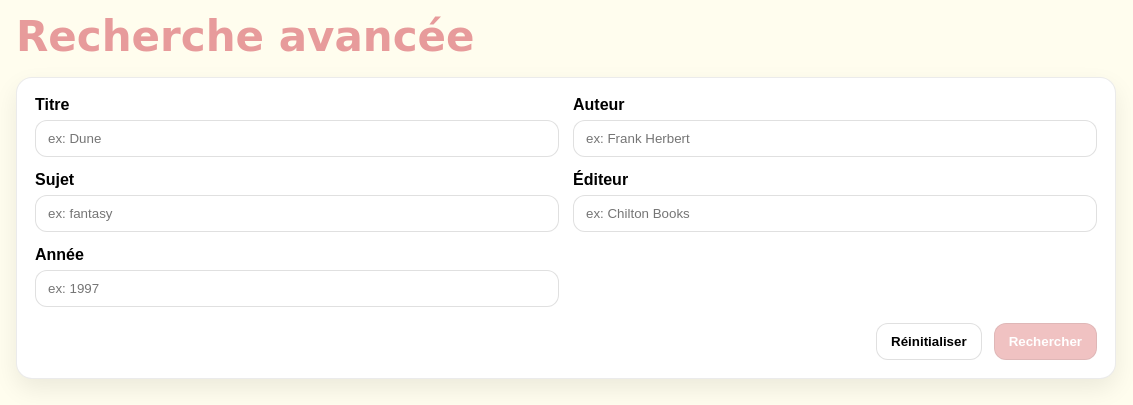
Scenario: Page AdvancedSearch › le bouton se reactive dès qu'on tape quelque chose
This screenshot has width=1133, height=405.
In the field with placeholder "ex: Dune": (297, 139) [35, 120, 559, 157], type "Dune"
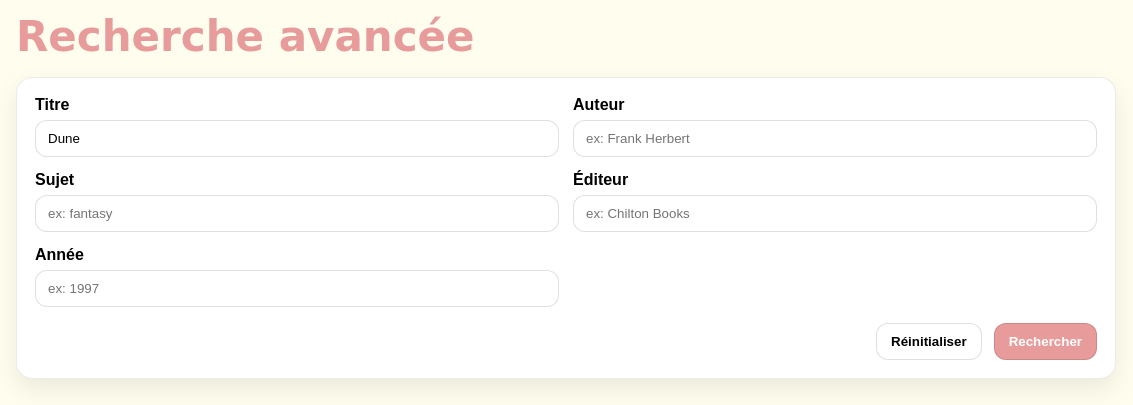
Check: the button "Rechercher" is enabled, box [994, 323, 1097, 360]
